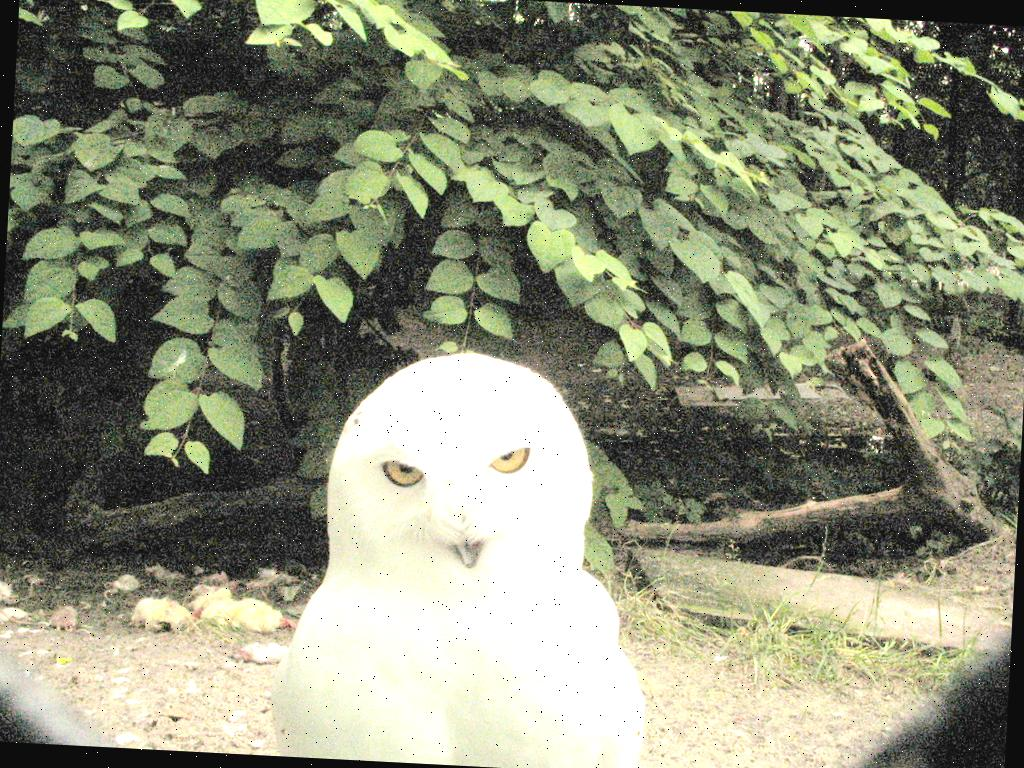Owl: (253, 349, 668, 768)
